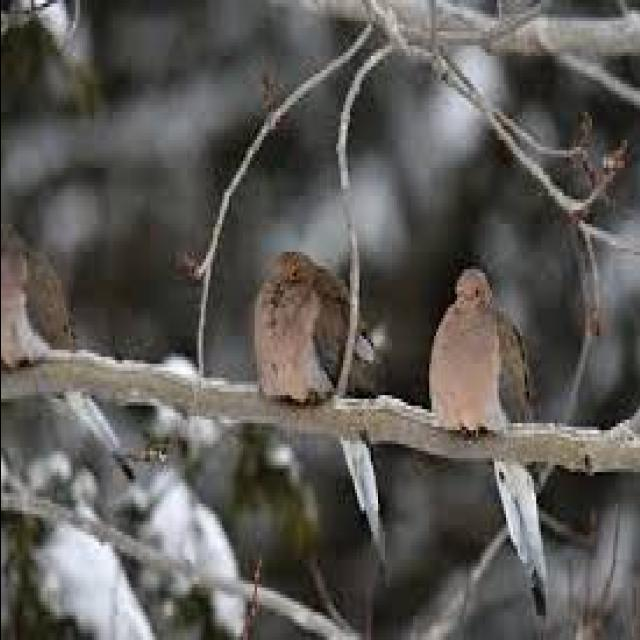pigeon: (237, 251, 386, 407)
